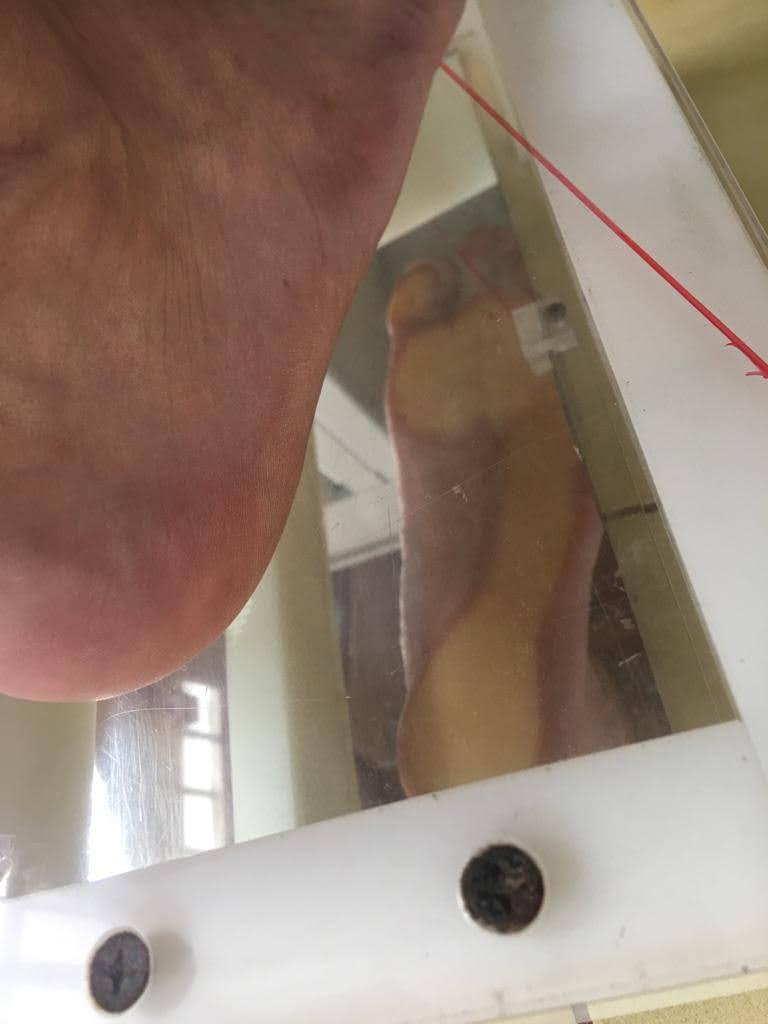Present: (371, 261, 620, 789)
